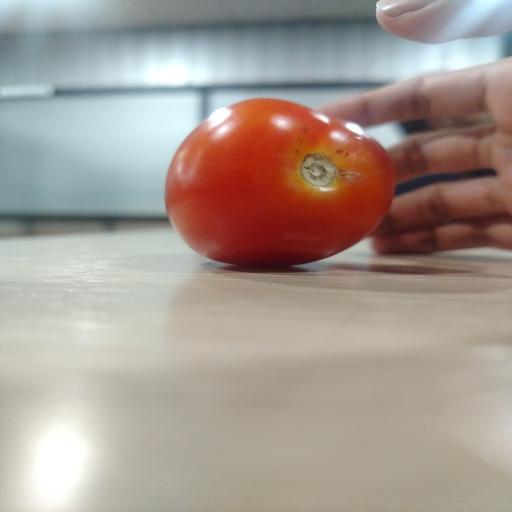ripe: (165, 99, 394, 265)
